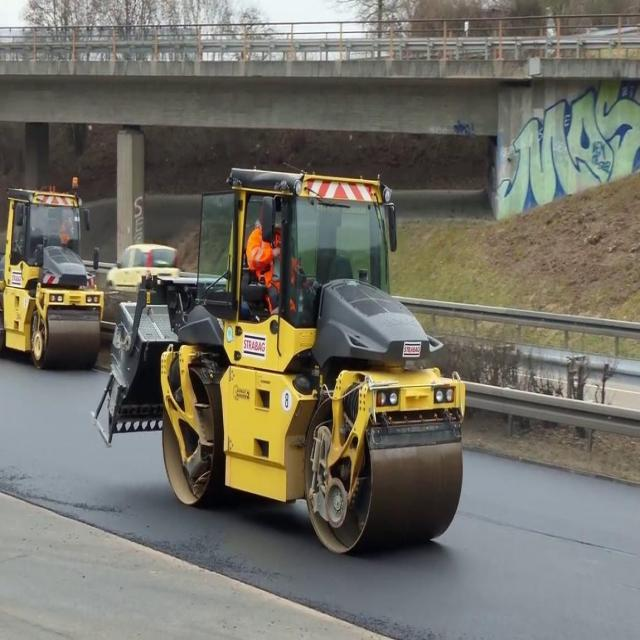Excavator: (3, 182, 101, 363)
Roller: (115, 170, 460, 554)
